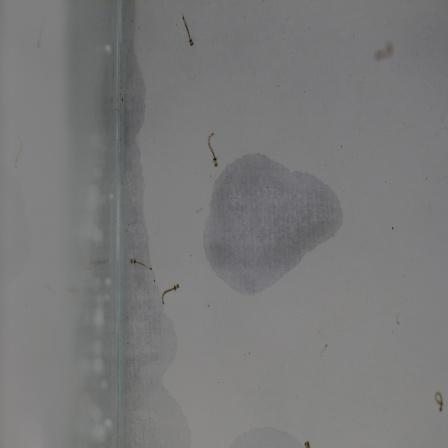Jentik-Nyamuk: (157, 282, 186, 314), (204, 127, 223, 171), (177, 9, 197, 50), (128, 255, 158, 277)
